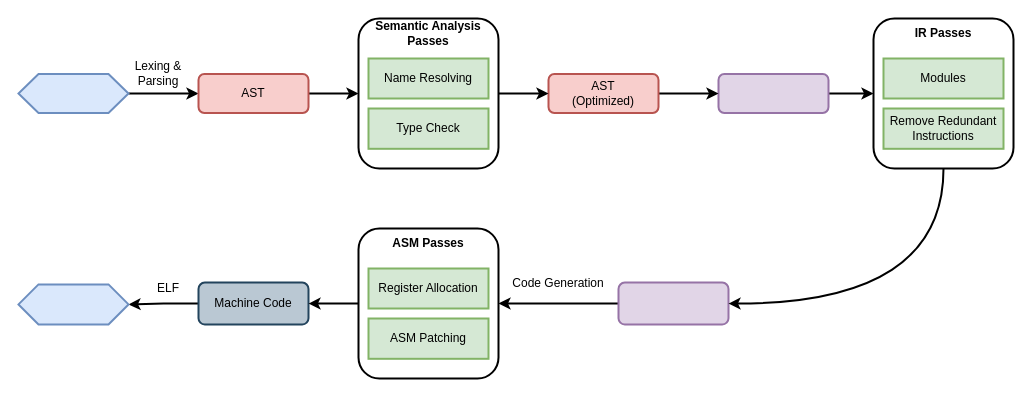
This 1031x396 diagram has some shape labels left out. The centre of each missing label's shape, as x and y in pixels:
"Executable File" belongs at point (73, 304).
"Source Code" belongs at point (73, 93).
"TAC IR" belongs at point (773, 93).
"TAC IR (Optimized)" belongs at point (673, 303).
